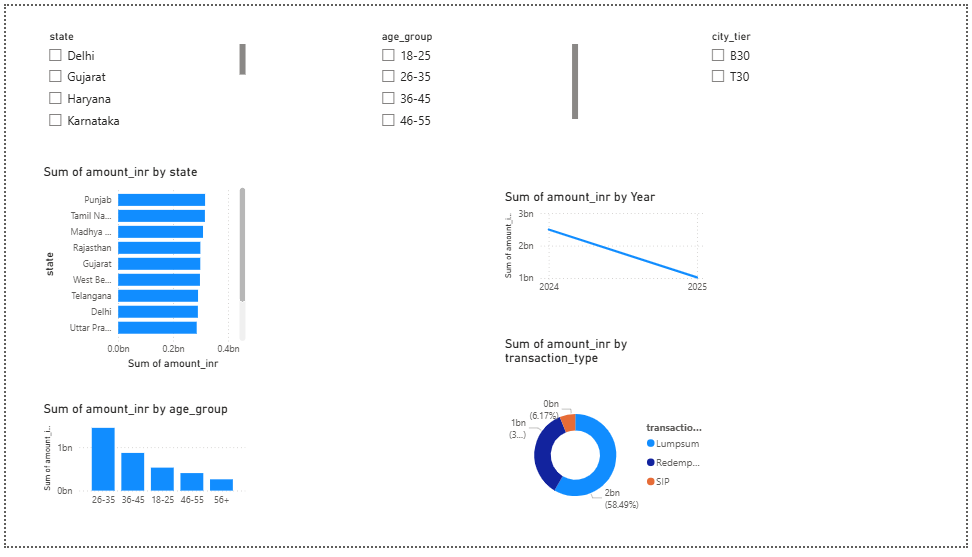

The page's visual inventory and layout, read from the dashboard file:
{"tool":"powerbi","page":{"name":"Investor Analytics","canvas":[1280,720],"ordinal":2},"visuals":[{"type":"clusteredBarChart","fields":{"Category":["clean_transactions.state"],"Y":["Sum(clean_transactions.amount_inr)"]},"box":[45.8,209.3,279.5,279.5],"z":0},{"type":"donutChart","fields":{"Category":["clean_transactions.transaction_type"],"Y":["Sum(clean_transactions.amount_inr)"]},"box":[659.9,439.9,279.5,279.5],"z":1},{"type":"columnChart","fields":{"Category":["clean_transactions.age_group"],"Y":["Sum(clean_transactions.amount_inr)"]},"box":[45.8,527,279.5,149.7],"z":2},{"type":"lineChart","fields":{"Category":["clean_transactions.transaction_date.Variation.Date Hierarchy.Year","clean_transactions.transaction_date.Variation.Date Hierarchy.Quarter","clean_transactions.transaction_date.Variation.Date Hierarchy.Month","clean_transactions.transaction_date.Variation.Date Hierarchy.Day"],"Y":["Sum(clean_transactions.amount_inr)"]},"box":[659.9,242.9,279.5,149.7],"z":3},{"type":"slicer","fields":{"Values":["clean_transactions.state"]},"box":[45.8,27.5,279.5,149.7],"z":4},{"type":"slicer","fields":{"Values":["clean_transactions.age_group"]},"box":[488.8,27.5,279.5,149.7],"z":5},{"type":"slicer","fields":{"Values":["clean_transactions.city_tier"]},"box":[928.7,27.5,279.5,149.7],"z":6}]}

Visuals, with their boxes in screenshot pixels (x1, y1, x2, y2), scaled from the page's 1280x720 canvas onto the 972x557 screenshot:
clusteredBarChart - clean_transactions.state x Sum(clean_transactions.amount_inr): locate(35, 162, 247, 378)
donutChart - clean_transactions.transaction_type x Sum(clean_transactions.amount_inr): locate(501, 340, 713, 556)
columnChart - clean_transactions.age_group x Sum(clean_transactions.amount_inr): locate(35, 408, 247, 524)
lineChart - clean_transactions.transaction_date.Variation.Date Hierarchy.Year x clean_transactions.transaction_date.Variation.Date Hierarchy.Quarter: locate(501, 188, 713, 304)
slicer - clean_transactions.state: locate(35, 21, 247, 137)
slicer - clean_transactions.age_group: locate(371, 21, 583, 137)
slicer - clean_transactions.city_tier: locate(705, 21, 917, 137)
